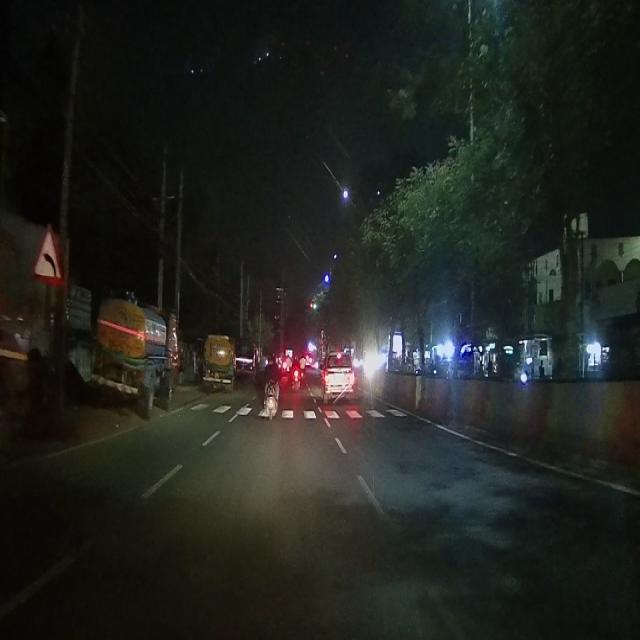left-hand-curve: (27, 216, 68, 289)
